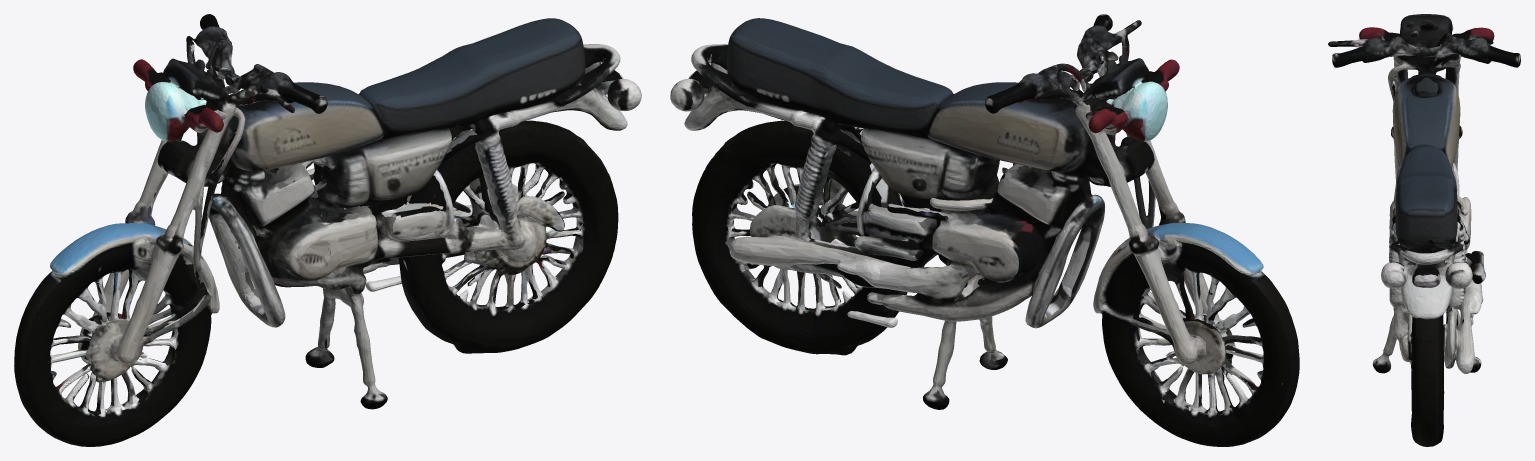
Rendered from bike1.glb.
3 renders of one model, left to right at view 1: azimuth 30°, elevation 25°; view 2: azimuth 150°, elevation 25°; view 3: azimuth 270°, elevation 25°, orthographic. The views are drawn at different scales.
Parts seen in each view (by area): view 1: world; view 2: world; view 3: world.
Part boxes in pixels (<box>): world: <box>14,14,641,446</box>; world: <box>670,14,1299,446</box>; world: <box>1328,14,1520,446</box>.
Bounding box in the file's own units: 1.99 × 1.14 × 0.676.
Materials: 1 (1 with a texture image).
